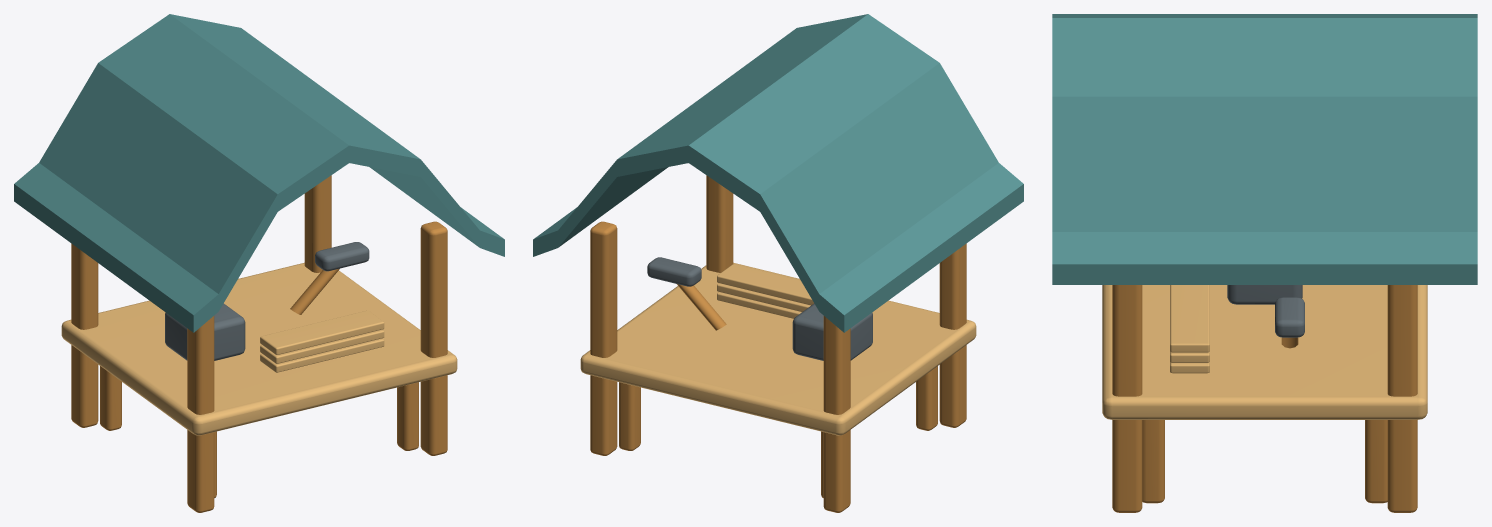
File: workshop.fbx
The picture shows the model from 3 angles, left to right: view 1: azimuth 30°, elevation 25°; view 2: azimuth 150°, elevation 25°; view 3: azimuth 270°, elevation 25°; orthographic projection. The views are drawn at different scales.
Visible parts, largest first — view 1: workshop; view 2: workshop; view 3: workshop.
Boxes of the visible parts, bbox=[...] form: workshop: bbox=[14, 14, 504, 512]; workshop: bbox=[533, 14, 1023, 512]; workshop: bbox=[1052, 14, 1477, 512].
Size of the model in its own units: 2 by 2.2 by 2.
Materials: 1 (1 with a texture image).
